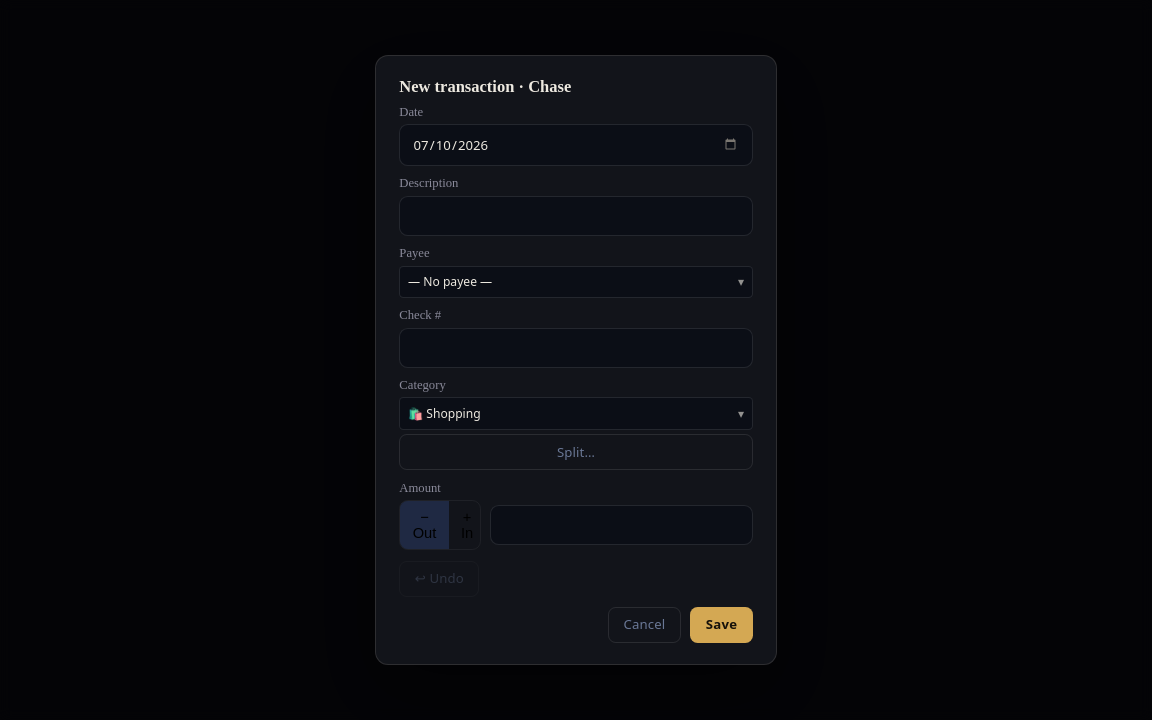
Test case: TransactionEditor split wire-up › opening Split… mounts SplitsEditor
Click the button "Split…": (576, 452) [399,434,753,470]
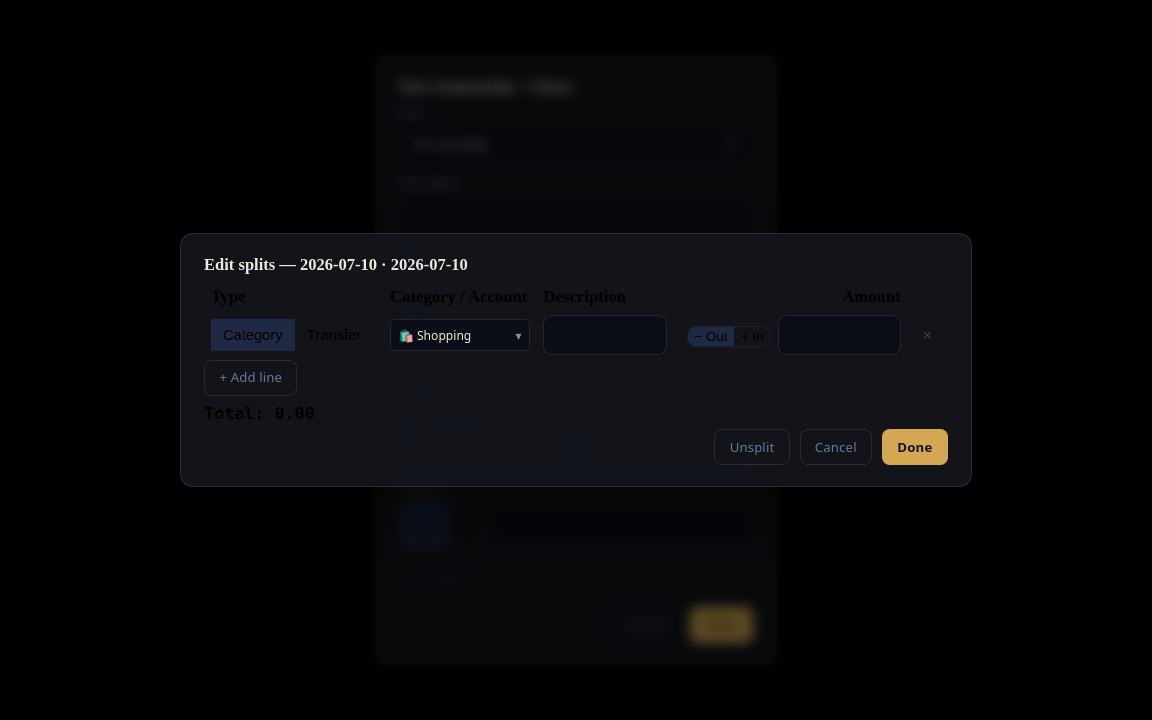
Result: the button "Done" is shown at [882,429,948,465]
